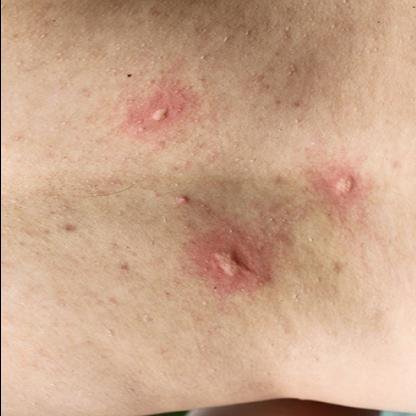Bed Bug: (188, 216, 278, 300), (115, 80, 187, 142), (313, 160, 373, 212)
